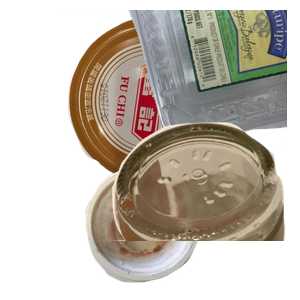glass: (89, 120, 300, 300)
metal: (66, 15, 297, 193)
plastic: (60, 10, 300, 149)
trash: (83, 163, 276, 300)
